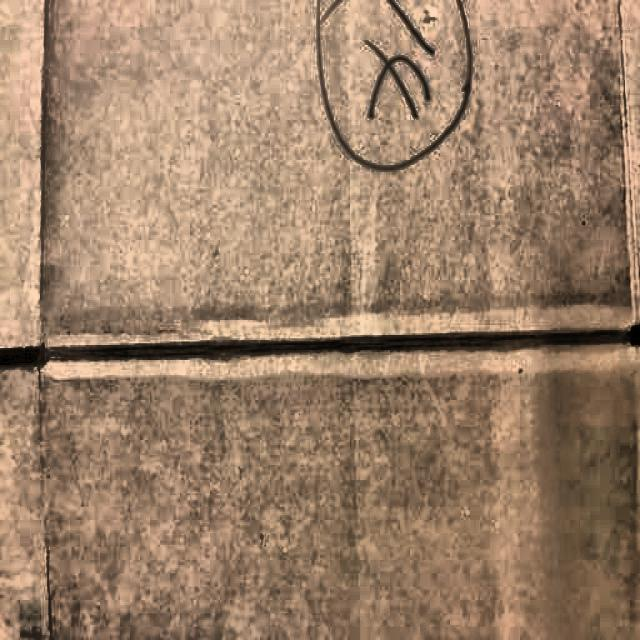cardboard: (4, 5, 637, 636)
